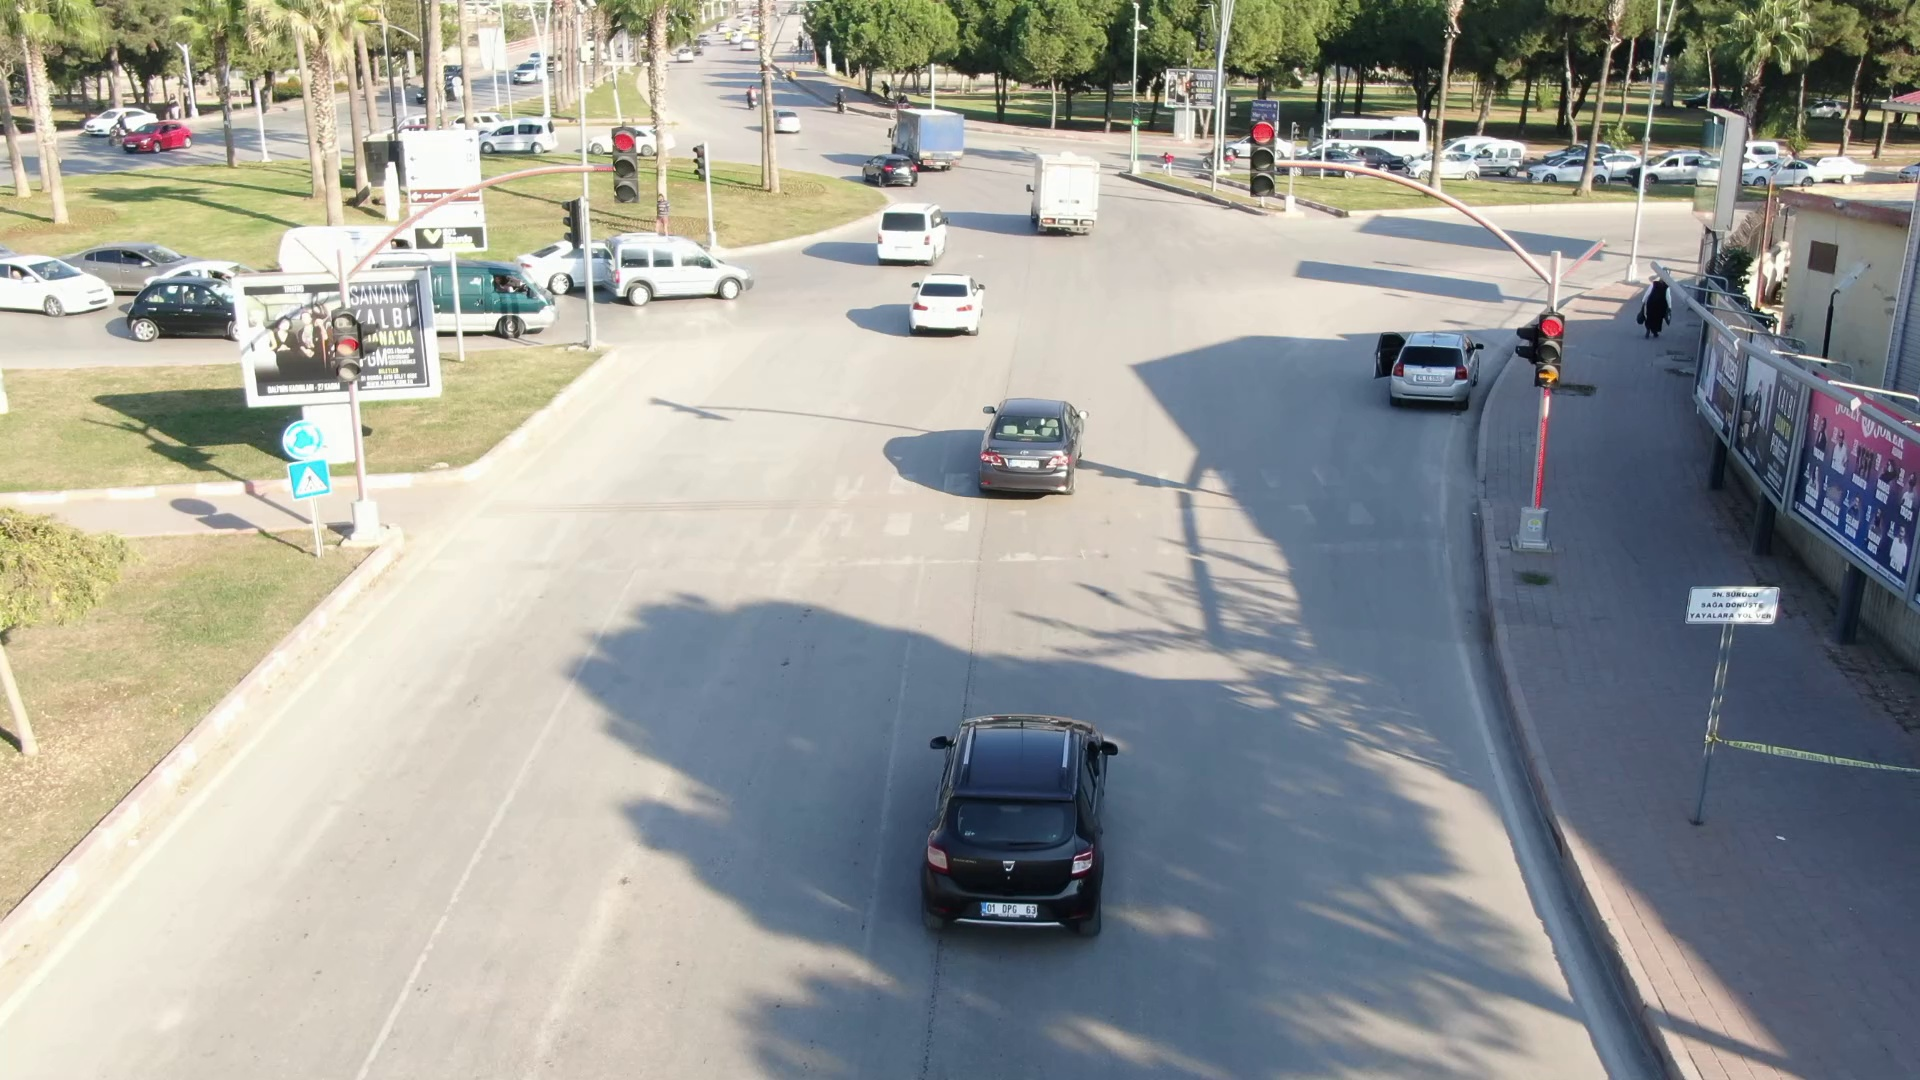car: (895, 679, 1168, 960), (962, 383, 1099, 510), (594, 221, 761, 308), (1013, 148, 1110, 249), (1378, 324, 1487, 408), (894, 268, 1003, 342), (861, 199, 955, 267)
person: (1630, 265, 1684, 344)
